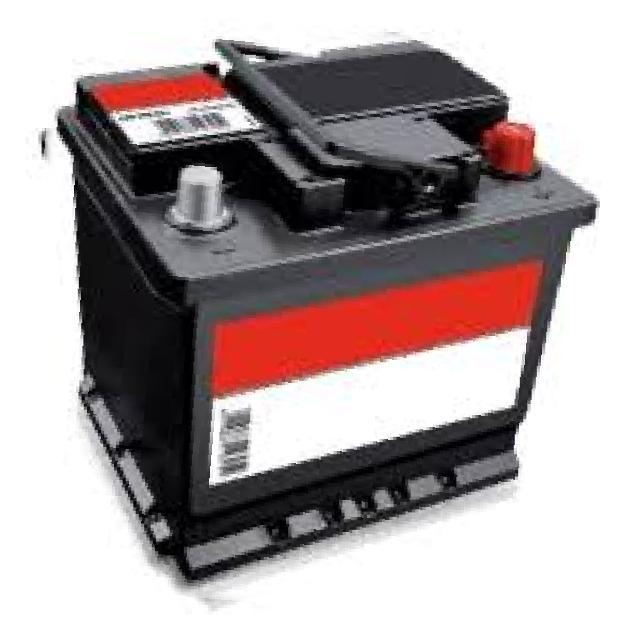Battery: (21, 16, 614, 594)
